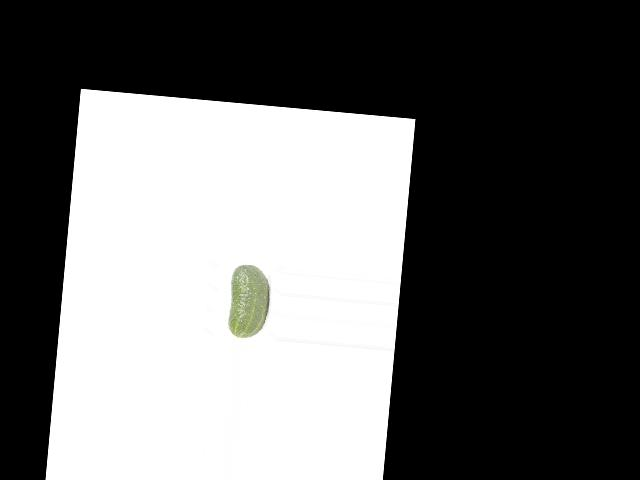cucumber: (227, 263, 272, 340)
